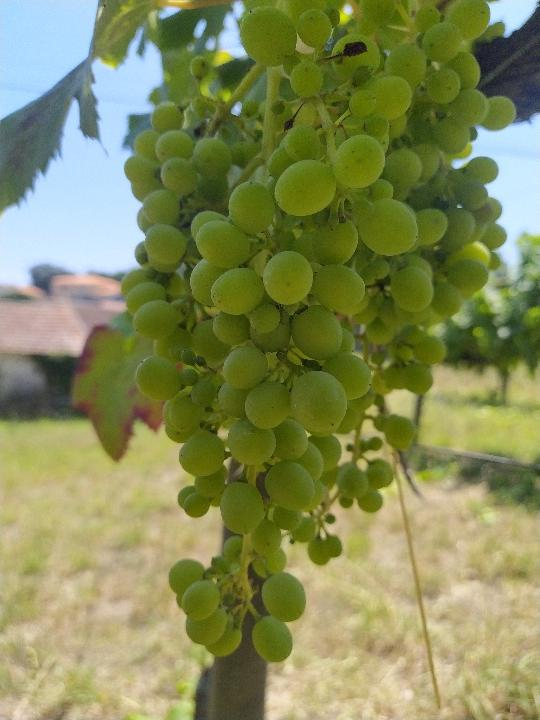grape: (117, 2, 519, 662)
